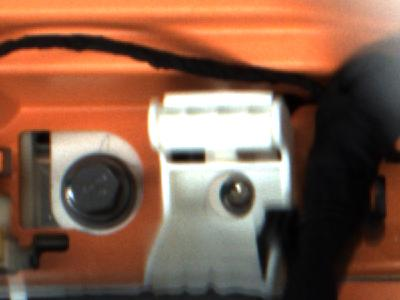nut_b: (55, 147, 144, 229)
